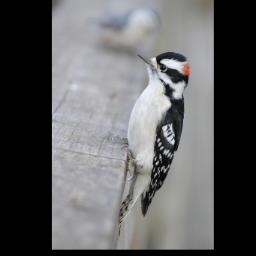Woodpecker: (116, 43, 198, 237)
